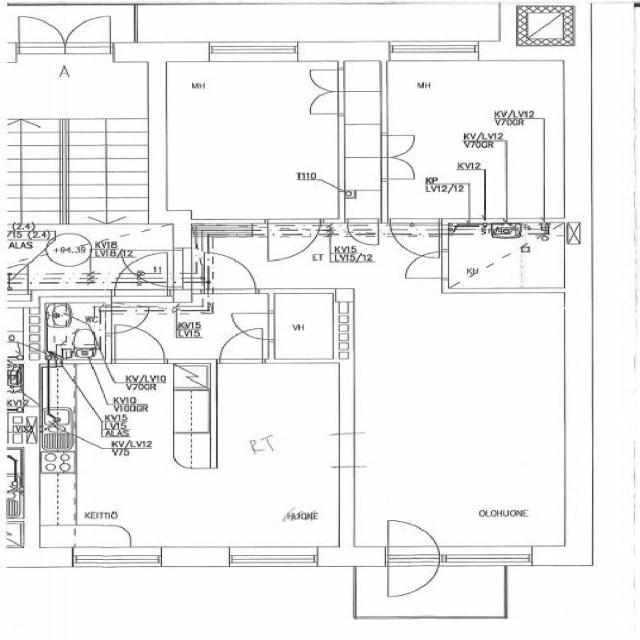door: (383, 516, 444, 600), (264, 220, 326, 265), (206, 251, 263, 295), (111, 322, 168, 365), (16, 14, 67, 55), (215, 326, 267, 366), (64, 14, 114, 55), (229, 312, 274, 344), (402, 250, 446, 281), (305, 68, 342, 101), (380, 132, 420, 162), (304, 88, 344, 116), (113, 307, 151, 334), (382, 154, 419, 180), (347, 221, 377, 247)
window: (206, 37, 300, 64), (228, 544, 323, 570), (387, 39, 482, 61), (439, 548, 536, 567), (71, 551, 163, 570)
zone: (164, 57, 344, 216), (441, 236, 547, 290), (384, 175, 492, 222), (270, 291, 340, 362), (44, 300, 104, 362), (266, 222, 325, 263), (521, 8, 572, 46), (342, 158, 383, 195), (2, 446, 26, 508), (341, 189, 384, 222), (3, 306, 27, 361)
